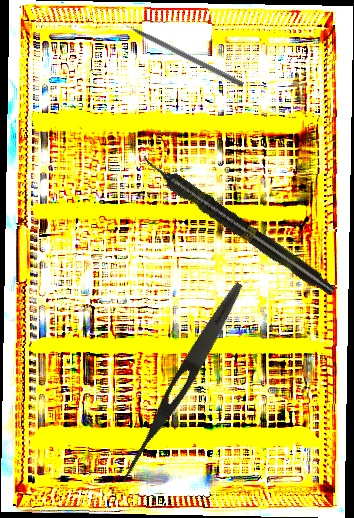Dressing Forceps: (114, 278, 249, 489)
Handpiece: (137, 150, 339, 300)
Hook Surgical: (111, 15, 245, 88)
